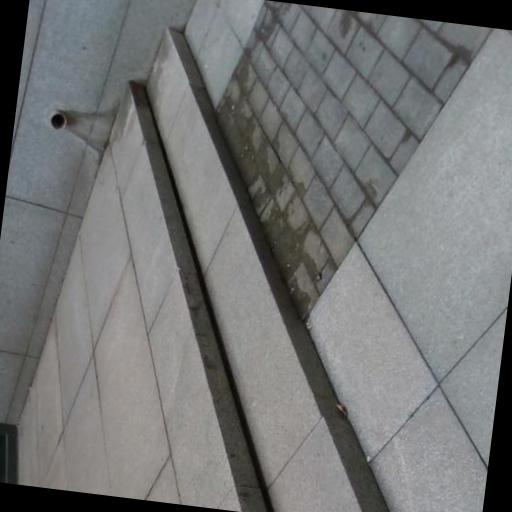stairs: (112, 29, 387, 511), (111, 83, 267, 511)
